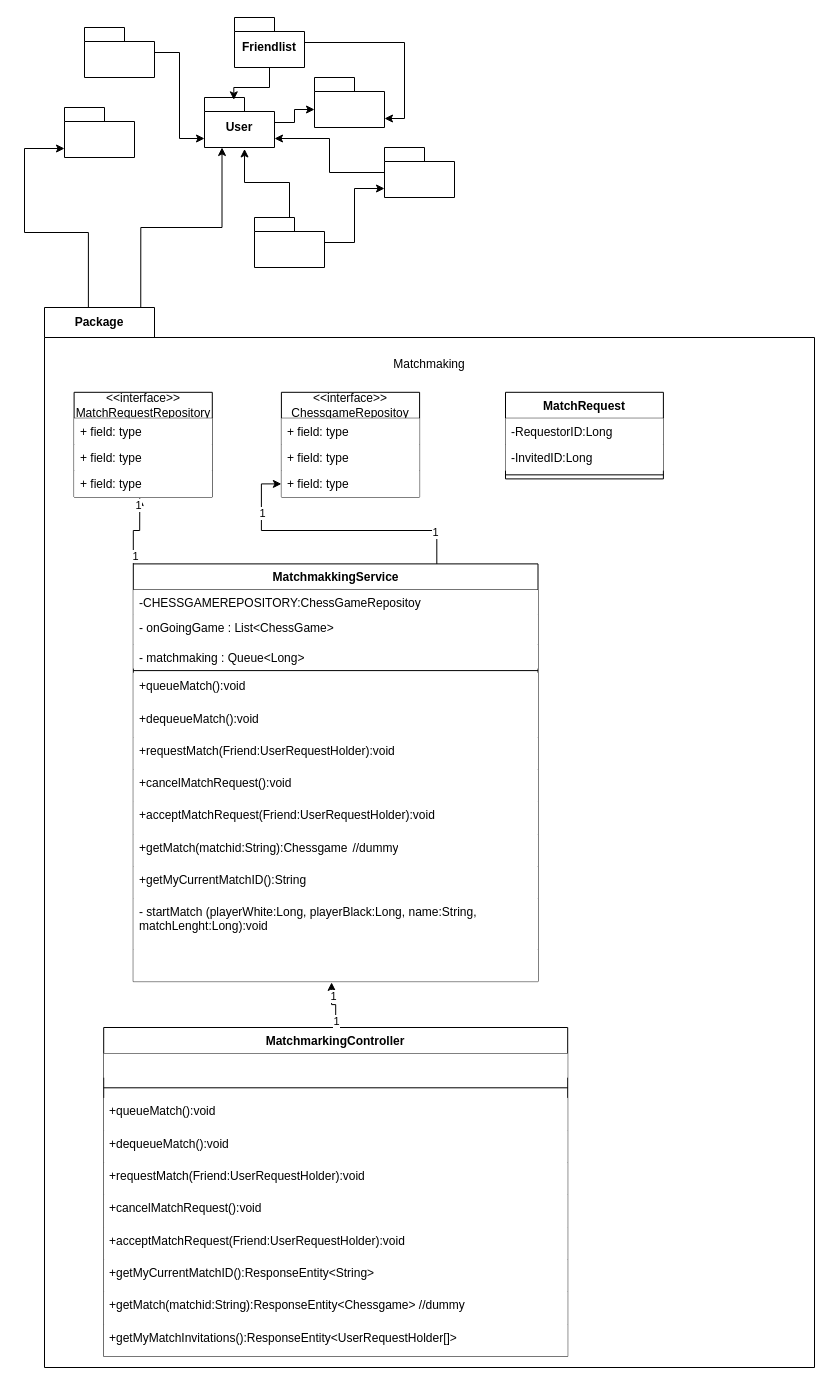
Image size: 832x1385. Some labels were removed from this diagram. The shapes that lost their labels are listed below. From the top down, each one's centre as x and y in pixels, then its label:
At (x=119, y=52): "Security".
At (x=349, y=102): "Email".
At (x=99, y=132): "ChessGame".
At (x=419, y=172): "Chat".
At (x=289, y=242): "ChessClub".
At (x=335, y=965): "- endAndSaveMatch(game:Chessgame):void".
At (x=335, y=1065): "- MATCHMAKINGSERVICE : MatchmarkingService".
